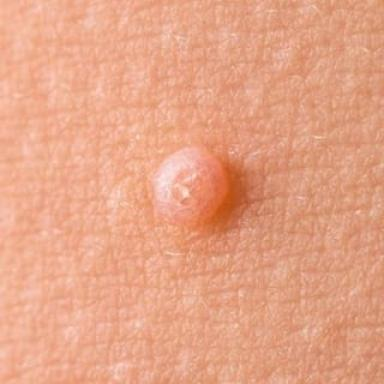Molluscum-Contagiosum: (150, 145, 231, 229)
